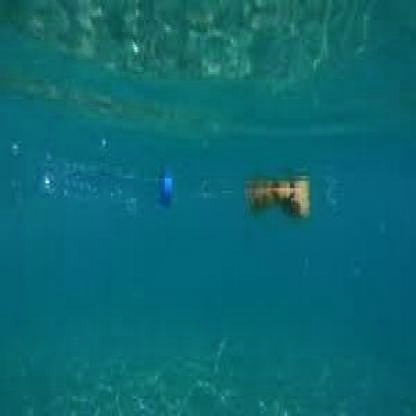pbottle: (30, 132, 180, 216)
